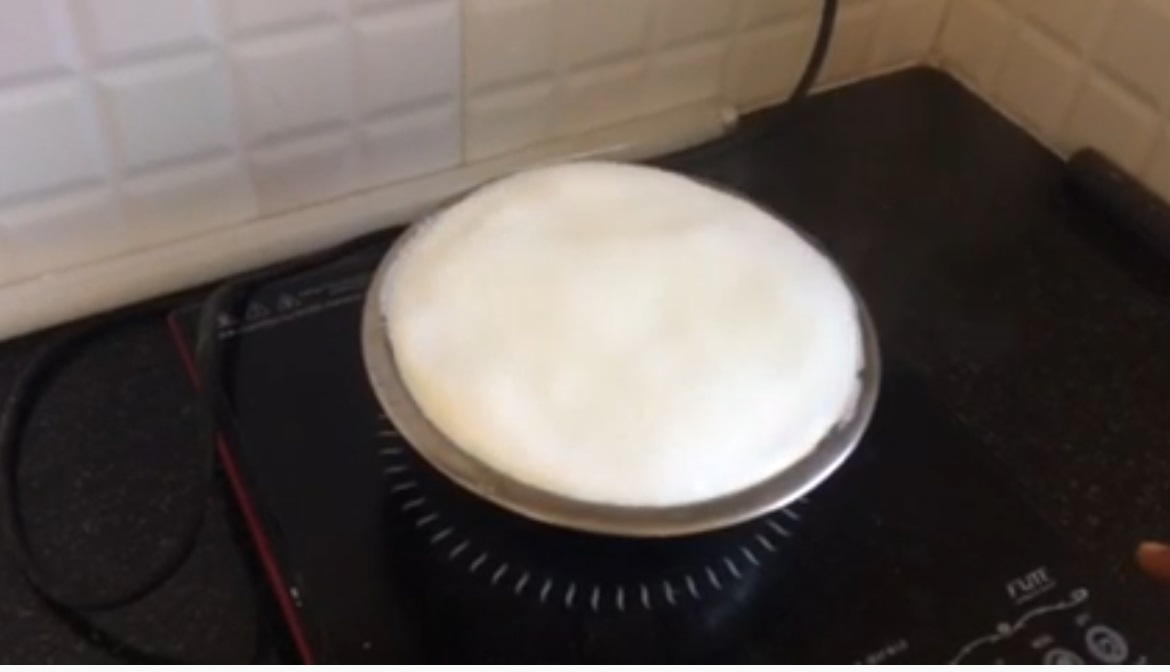Boiled: (357, 162, 864, 535)
